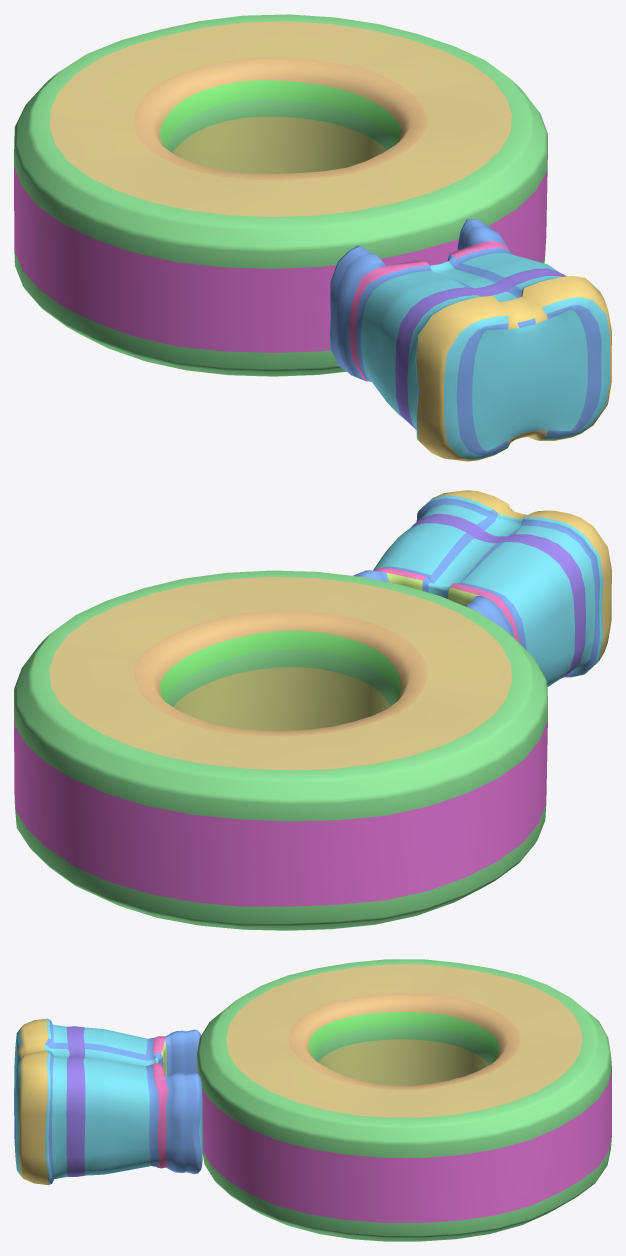
The model's file is Anchor_Unity.fbx.
The picture shows the model from 3 angles, top to bottom: view 1: azimuth 30°, elevation 25°; view 2: azimuth 150°, elevation 25°; view 3: azimuth 270°, elevation 25°; orthographic projection. The views are drawn at different scales.
Parts seen in each view (by area): view 1: AnchorBase (×11); view 2: AnchorBase (×12); view 3: AnchorBase (×11).
Boxes of the visible parts, x1,y1,x2,y2 form: AnchorBase (×11): (14,14,611,461); AnchorBase (×12): (14,490,611,930); AnchorBase (×11): (14,959,611,1241).
Bounding box in the file's own units: 1.05 × 0.3471 × 1.5.
